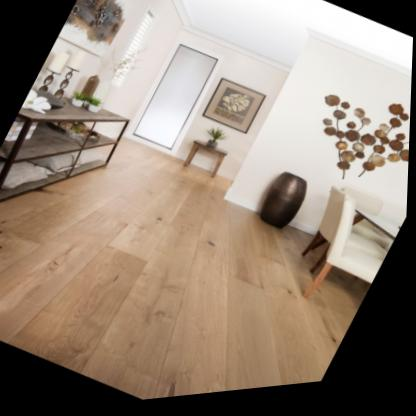Wooden floor: (0, 141, 372, 403)
